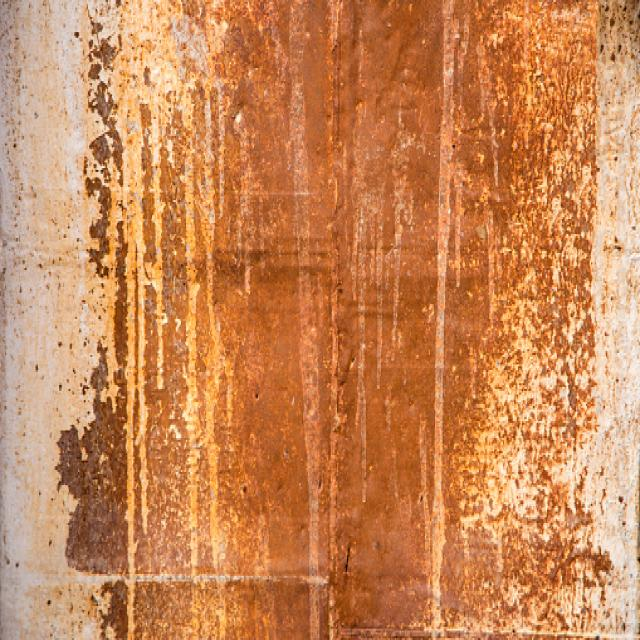corrosion: (0, 0, 640, 640), (224, 0, 476, 640), (487, 0, 591, 637), (147, 109, 224, 640), (0, 0, 55, 640), (591, 0, 640, 640), (55, 0, 84, 427), (60, 431, 128, 574)
